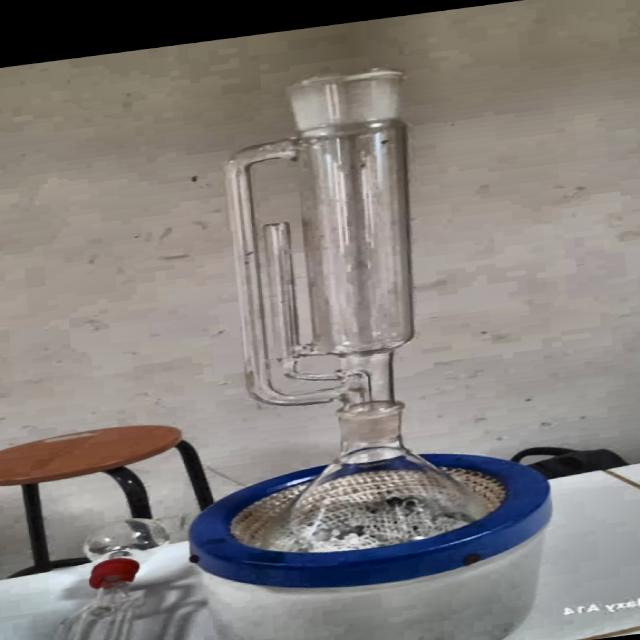Soxhlet: (200, 55, 480, 432)
